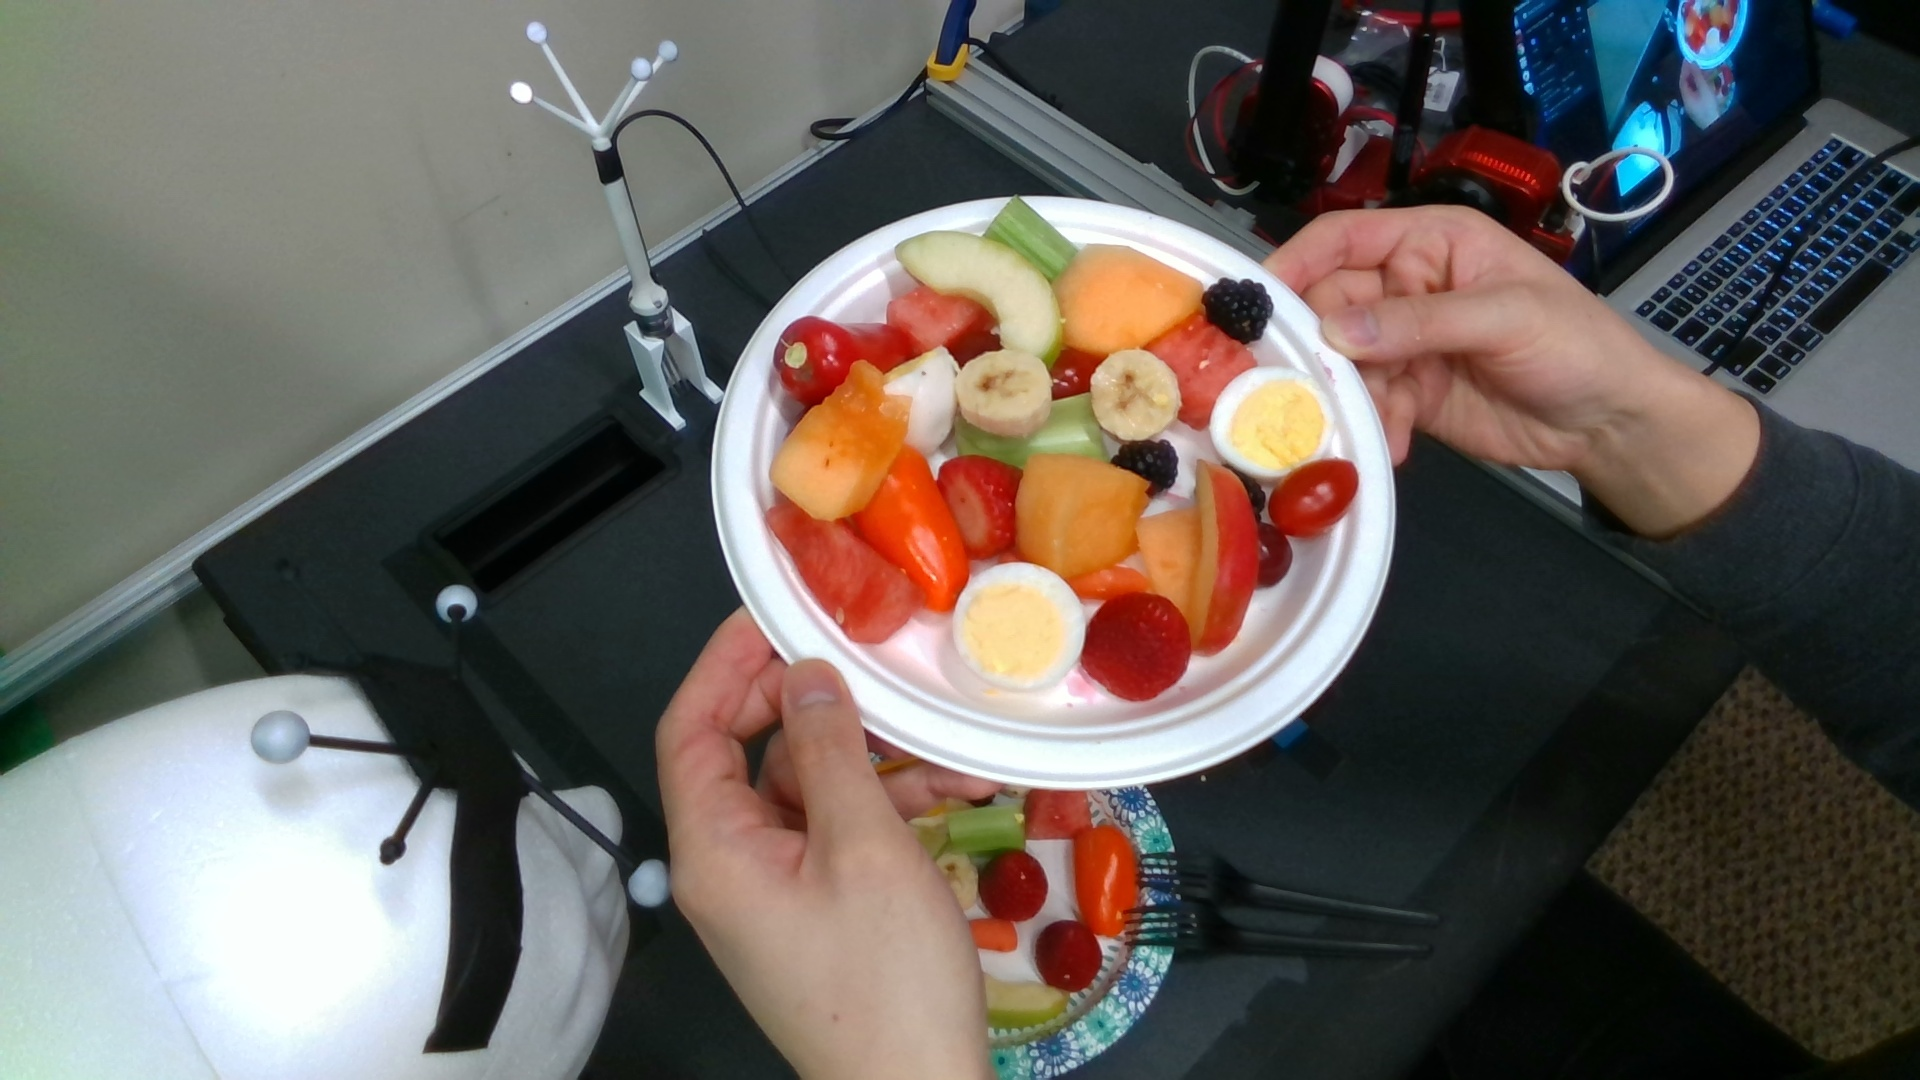apple: (894, 232, 1058, 363), (1188, 462, 1261, 655)
banana: (1092, 349, 1182, 442), (957, 349, 1052, 436)
bell_pepper: (856, 448, 968, 615), (775, 316, 895, 407), (1073, 825, 1137, 936)
blackberry: (1203, 278, 1270, 343), (1116, 440, 1175, 495)
cantalope: (769, 363, 909, 520), (1015, 456, 1145, 574), (1058, 247, 1203, 351)
celery: (982, 195, 1077, 284), (945, 804, 1027, 851)
cherry_tomato: (1269, 458, 1358, 535)
egg: (955, 564, 1084, 691), (1211, 369, 1335, 479)
melon: (766, 504, 920, 641), (1143, 318, 1258, 427), (1027, 790, 1091, 839)
strawberry: (1080, 592, 1189, 700), (938, 454, 1021, 558), (976, 851, 1048, 920), (1036, 920, 1102, 992)
